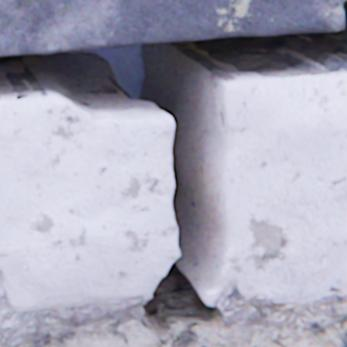brick: (0, 0, 342, 55)
broken_brick: (0, 95, 178, 310), (206, 73, 346, 302)
crack: (0, 0, 346, 345)
